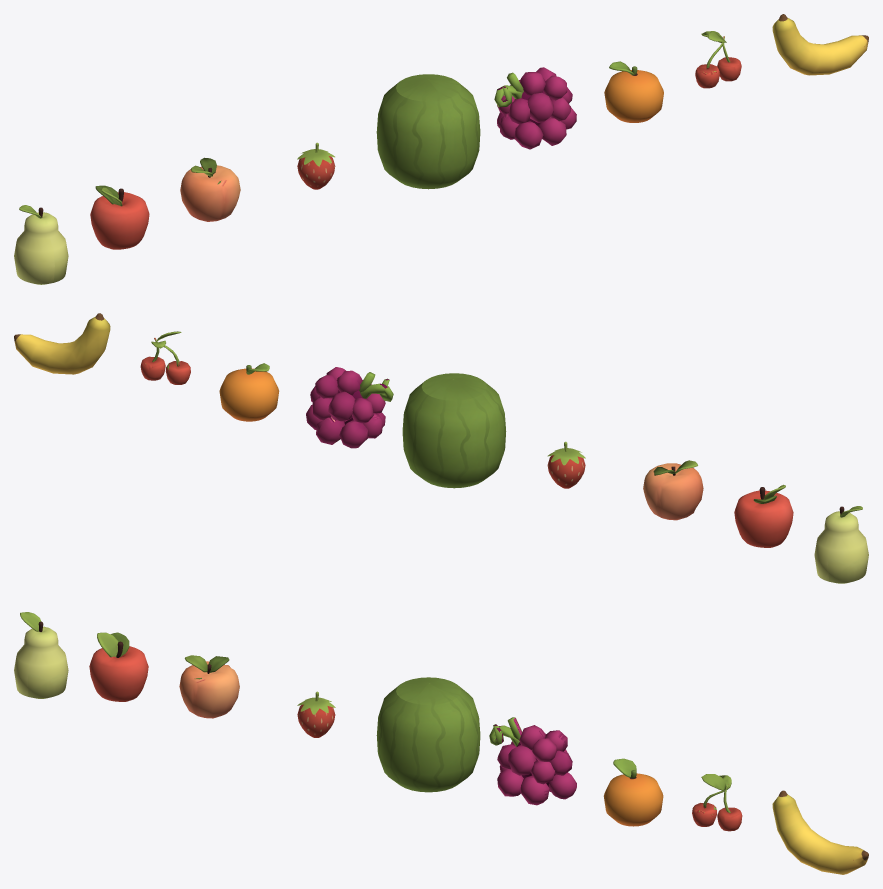
Rendered from Fruits.fbx.
3 views of the same model, one above another, from view 1: azimuth 30°, elevation 25°; view 2: azimuth 150°, elevation 25°; view 3: azimuth 330°, elevation 25° (orthographic).
Visible parts, largest first — view 1: WaterMelon, grapes, pear, banana, apple, peach, orange, cherry, strawberry; view 2: WaterMelon, grapes, pear, banana, peach, apple, orange, cherry, strawberry; view 3: WaterMelon, grapes, banana, pear, apple, peach, orange, cherry, strawberry.
Boxes of the visible parts, x1,y1,x2,y2 form: WaterMelon: [376, 74, 480, 189]; grapes: [494, 67, 576, 149]; pear: [14, 205, 68, 284]; banana: [772, 14, 868, 75]; apple: [90, 185, 149, 249]; peach: [180, 157, 240, 221]; orange: [604, 61, 663, 122]; cherry: [695, 31, 741, 88]; strawberry: [297, 142, 335, 189]; WaterMelon: [402, 373, 506, 488]; grapes: [306, 367, 393, 448]; pear: [814, 506, 868, 583]; banana: [14, 313, 110, 374]; peach: [643, 460, 703, 520]; apple: [734, 484, 793, 547]; orange: [219, 363, 279, 421]; cherry: [140, 331, 190, 384]; strawberry: [547, 441, 585, 488]; WaterMelon: [376, 677, 480, 792]; grapes: [489, 717, 576, 805]; banana: [772, 790, 868, 874]; pear: [14, 612, 68, 698]; apple: [89, 632, 148, 701]; peach: [179, 655, 239, 718]; orange: [603, 758, 663, 826]; cherry: [692, 774, 742, 831]; strawberry: [297, 691, 335, 737].
Bounding box in the file's own units: 1784 × 213 × 188.
1 material, 1 textured.
